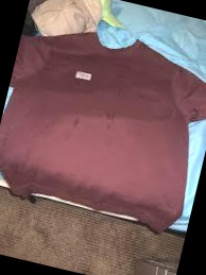oil: (101, 105, 120, 132), (71, 114, 84, 132)
